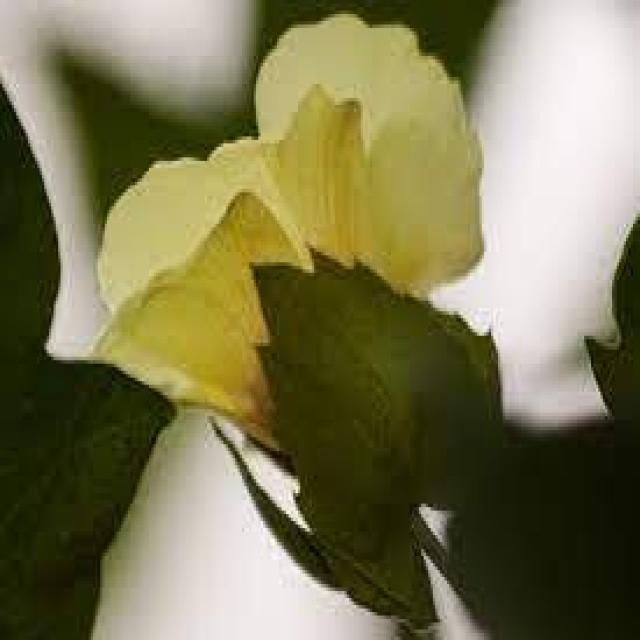Cotton Blossom: (101, 18, 498, 584)
